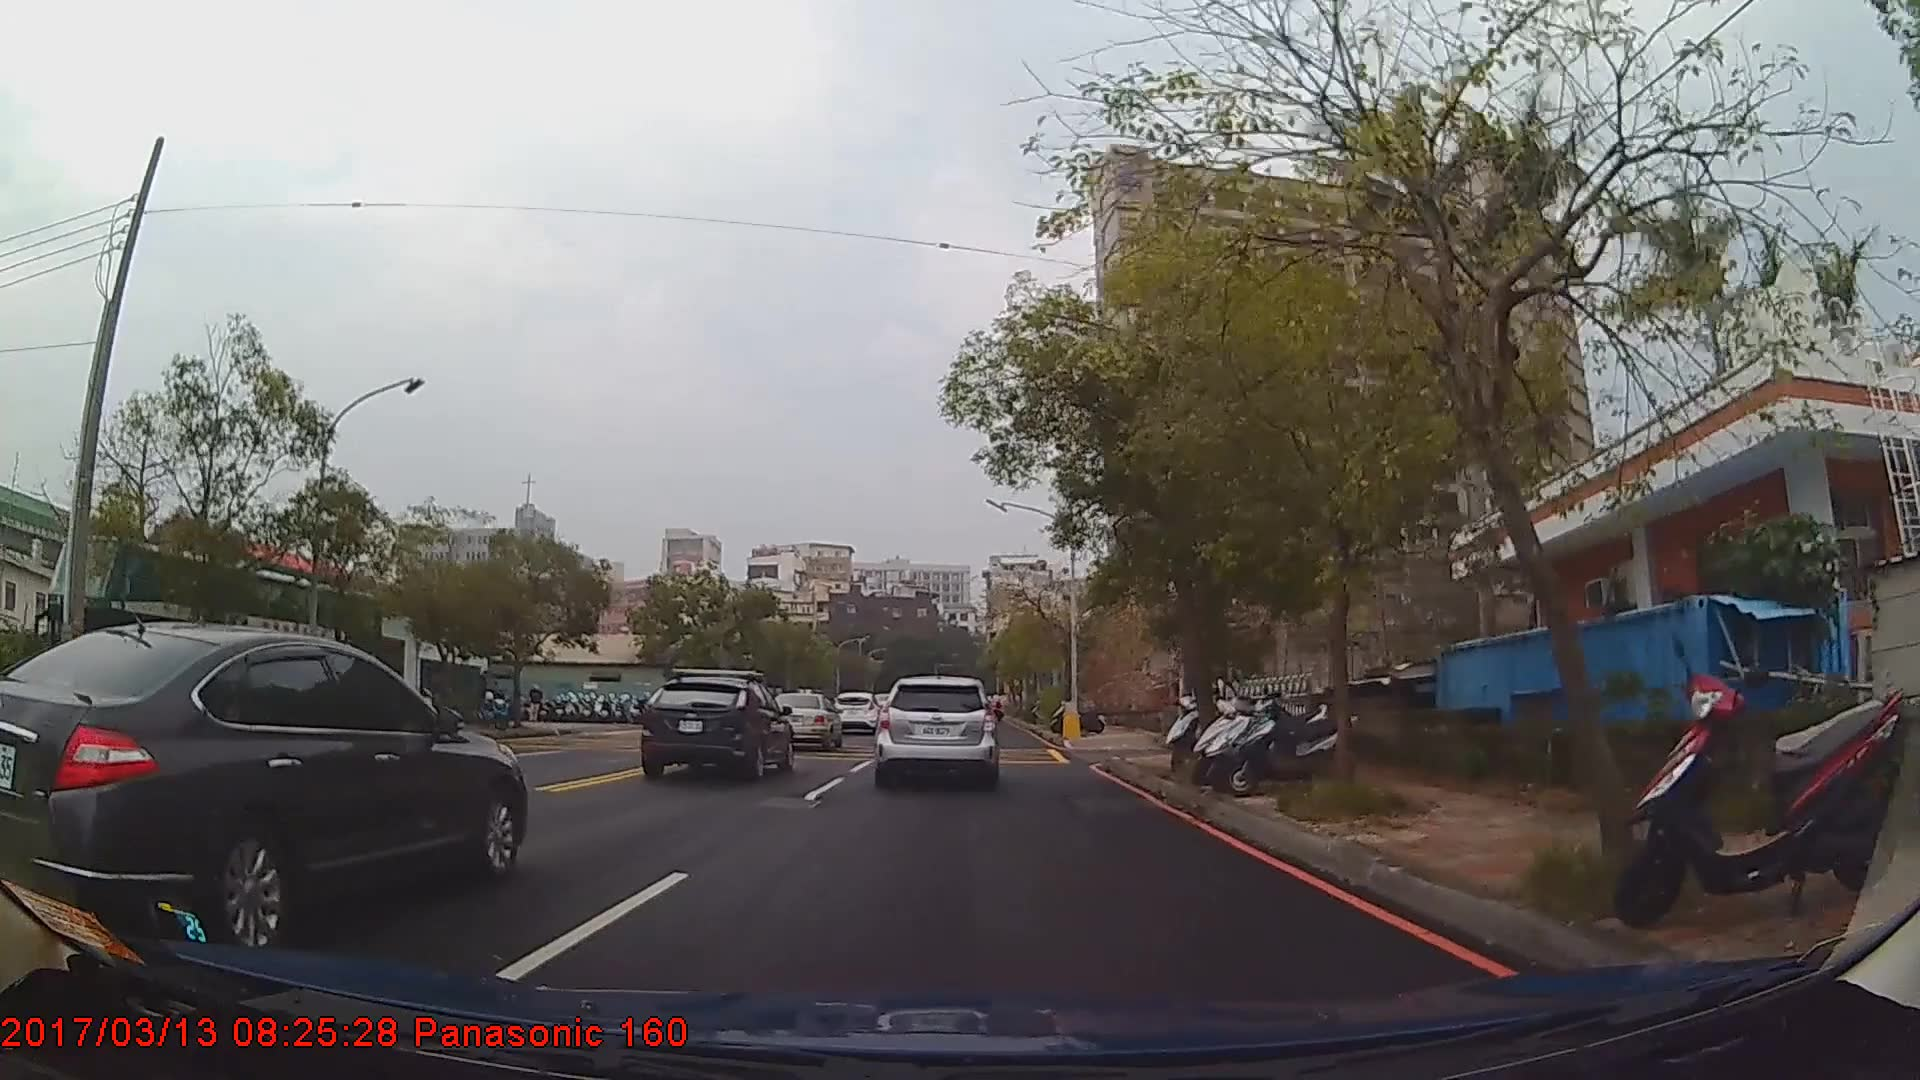vehicle: (0, 618, 527, 947), (26, 530, 378, 746), (638, 673, 795, 781), (878, 670, 1002, 787), (767, 690, 843, 752), (831, 690, 881, 735)
